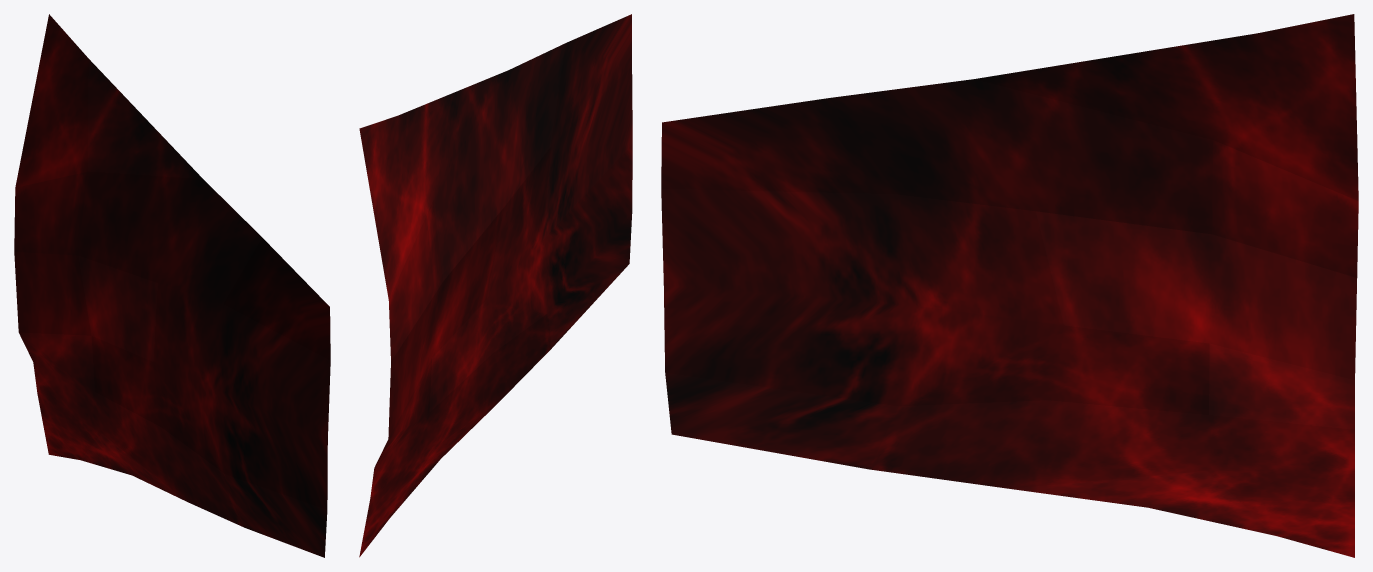
File: Cobweb_Flat.fbx
3 renders of one model, left to right at view 1: azimuth 30°, elevation 25°; view 2: azimuth 150°, elevation 25°; view 3: azimuth 270°, elevation 25°, orthographic. The views are drawn at different scales.
Visible parts, largest first — view 1: Cobweb_Flat; view 2: Cobweb_Flat; view 3: Cobweb_Flat.
Part boxes in pixels (<box>): Cobweb_Flat: <box>14,14,330,557</box>; Cobweb_Flat: <box>359,14,632,557</box>; Cobweb_Flat: <box>661,14,1358,557</box>.
Bounding box in the file's own units: 54.94 × 673 × 782.
